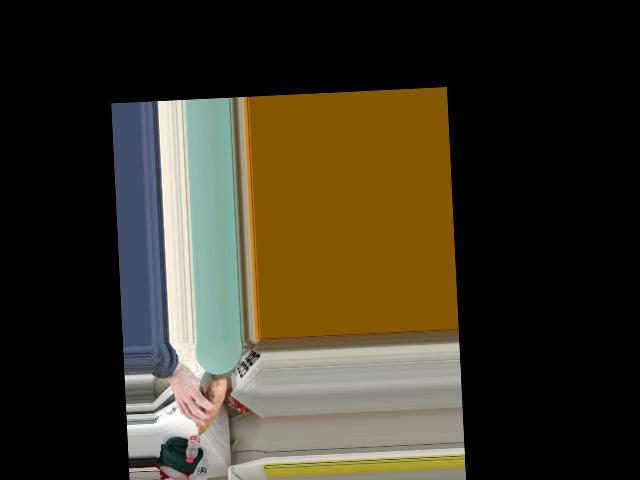sweet_potato: (185, 387, 227, 432)
